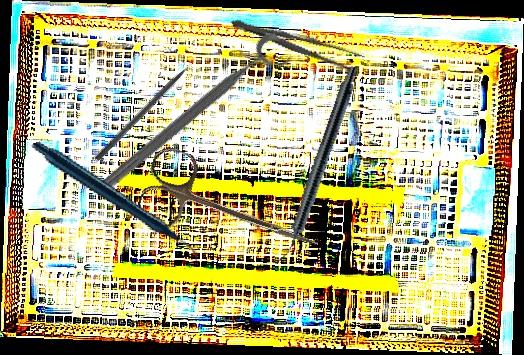Dressing Forceps: (227, 12, 368, 74)
Fixation Ring: (97, 29, 296, 205)
Handpiece: (30, 103, 201, 302), (274, 62, 362, 269)
Iris Scissors: (133, 143, 332, 278)
Pusher: (94, 53, 203, 163)
